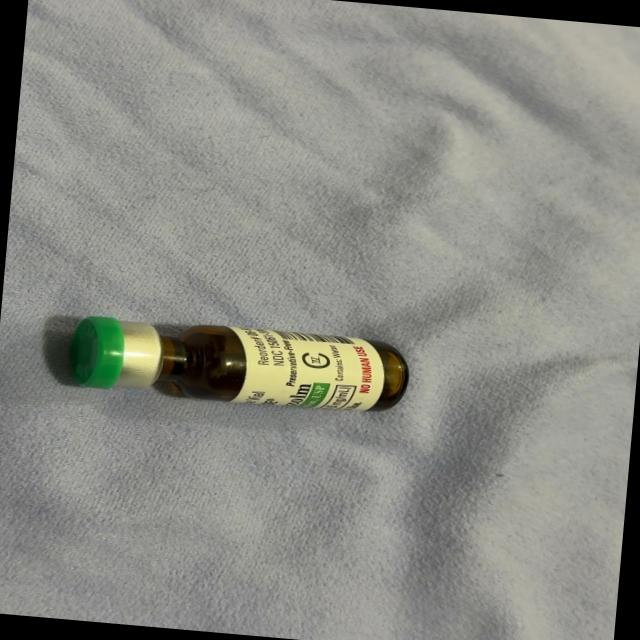midazolm: (71, 314, 406, 416)
